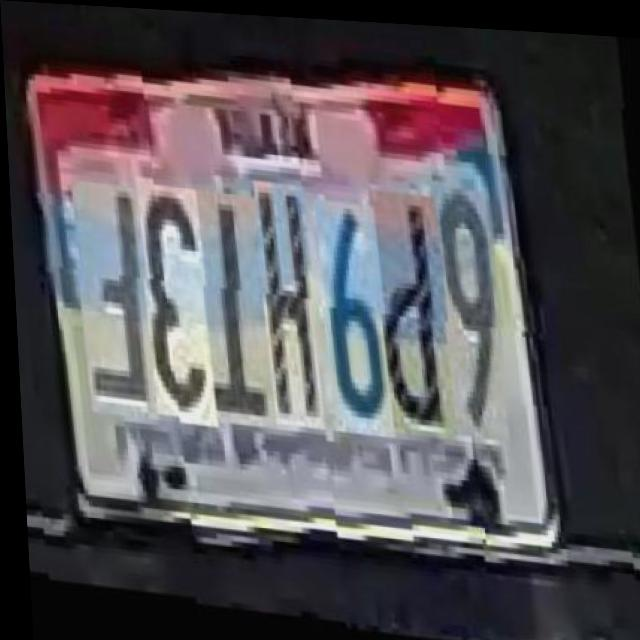3: (140, 199, 221, 443)
6: (433, 184, 511, 438)
9: (319, 206, 398, 443)
f: (75, 204, 163, 442)
h: (258, 193, 328, 442)
p: (372, 194, 460, 445)
t: (193, 204, 280, 444)
